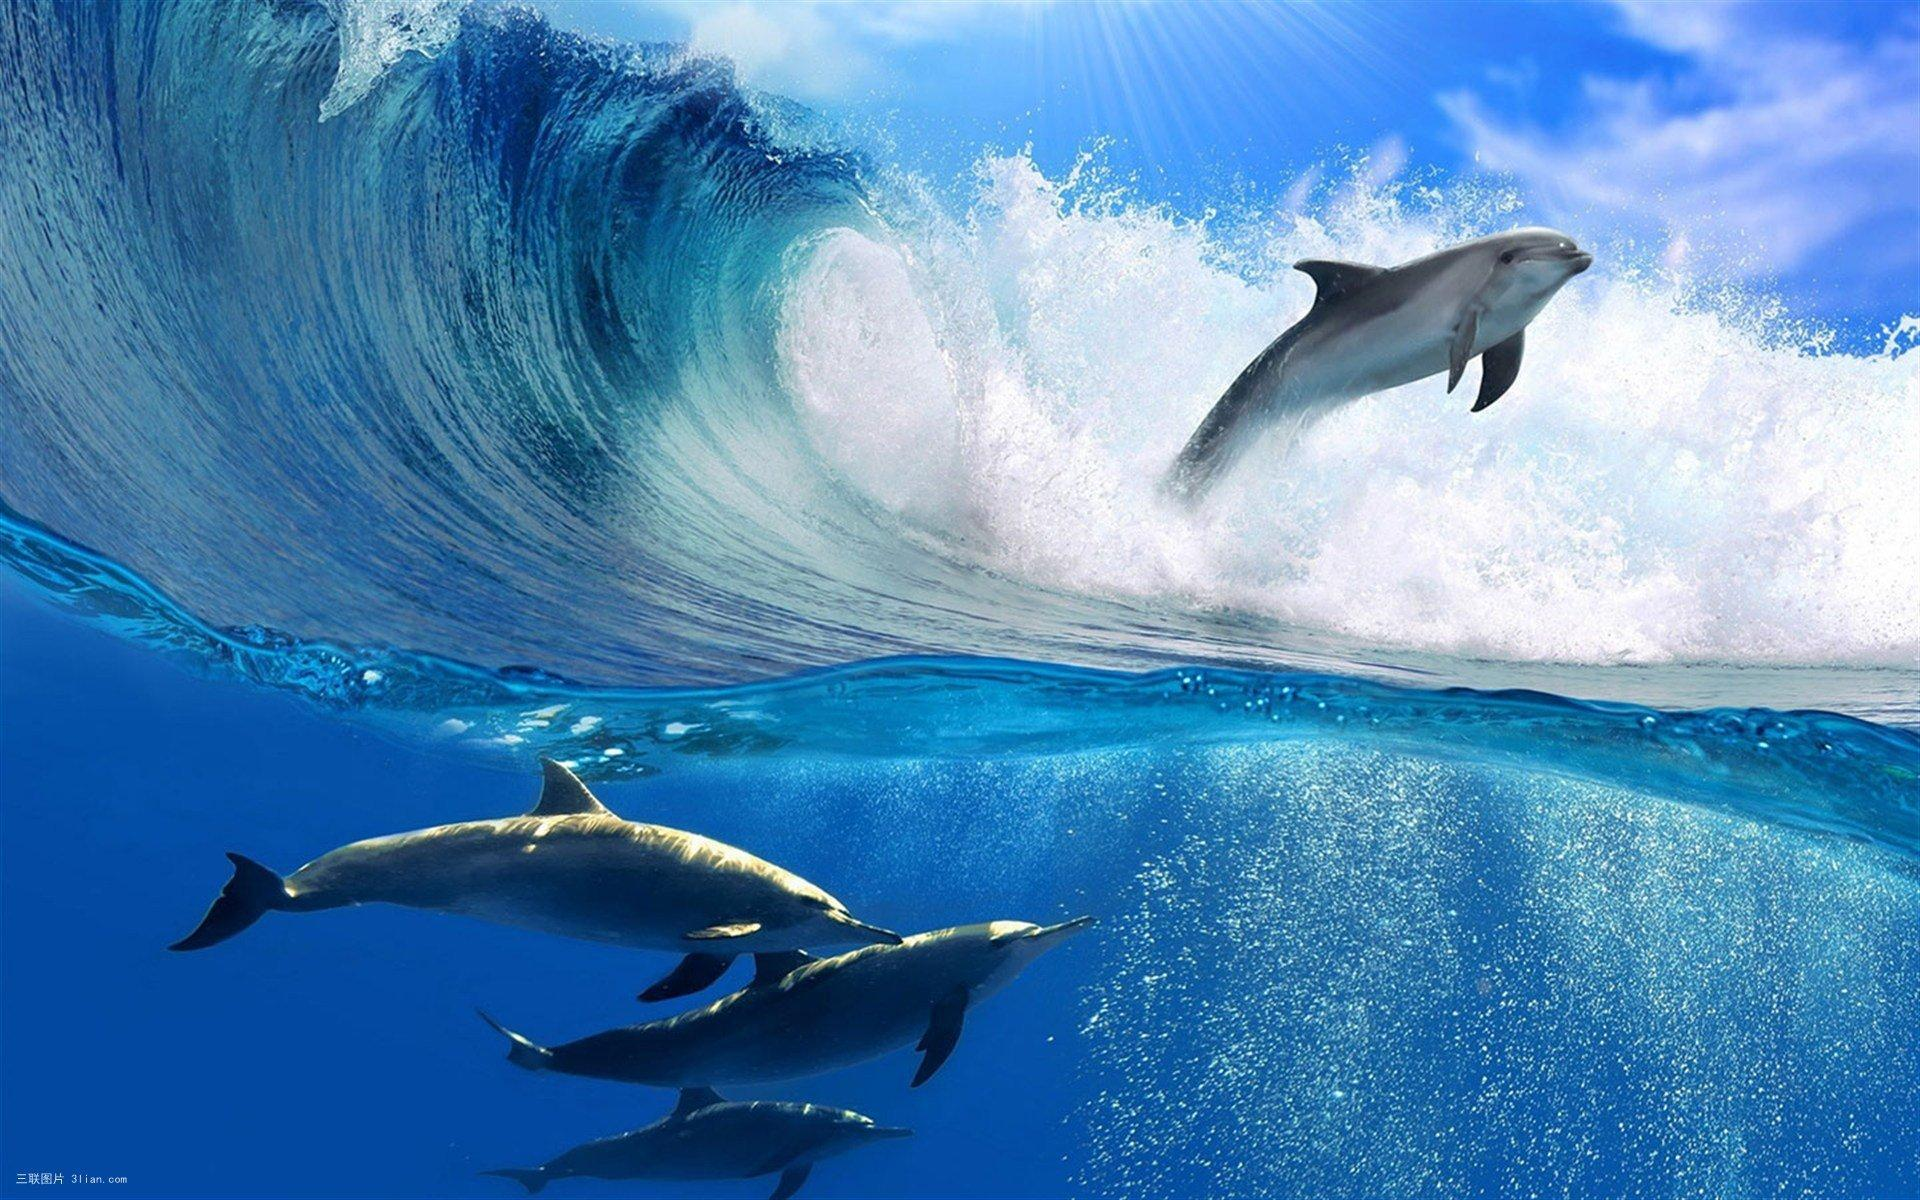fish: (164, 751, 905, 1004), (1133, 218, 1591, 495), (482, 897, 1092, 1082), (498, 1087, 921, 1190)
